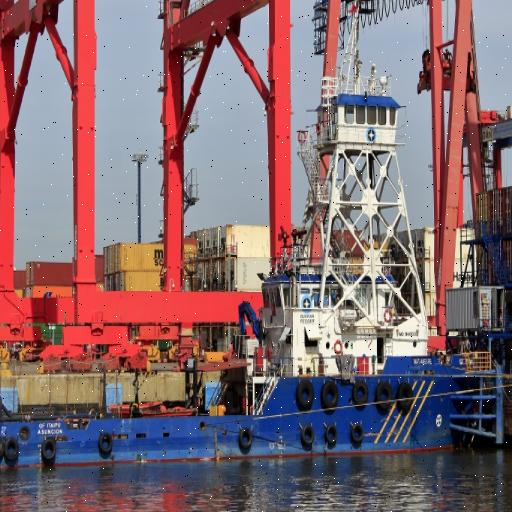tugboat: (1, 63, 511, 490)
